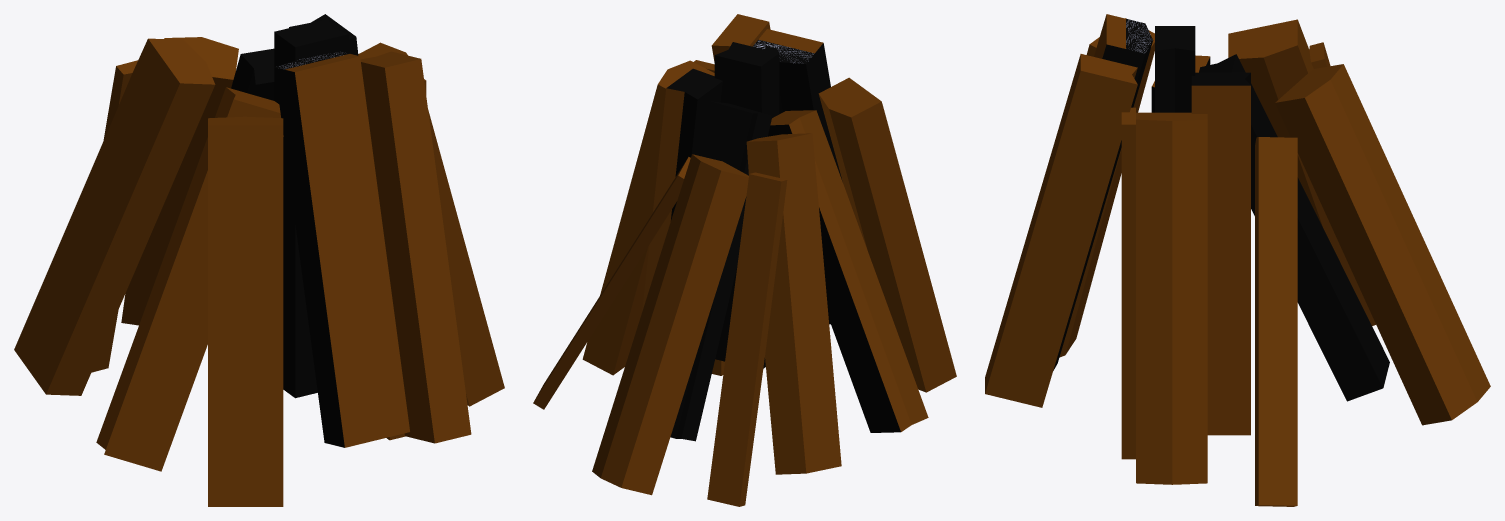
The model's file is campfire.dae.
3 views of the same model, side by side, from view 1: azimuth 30°, elevation 25°; view 2: azimuth 150°, elevation 25°; view 3: azimuth 270°, elevation 25° (orthographic). The views are drawn at different scales.
Visible parts, largest first — view 1: SketchUp (×10); view 2: SketchUp (×15); view 3: SketchUp (×13).
Part boxes in pixels (<box>): SketchUp (×10): <box>14,18,504,506</box>; SketchUp (×15): <box>533,14,956,506</box>; SketchUp (×13): <box>985,14,1490,506</box>.
Size of the model in its own units: 0.1555 by 0.1786 by 0.1514.
